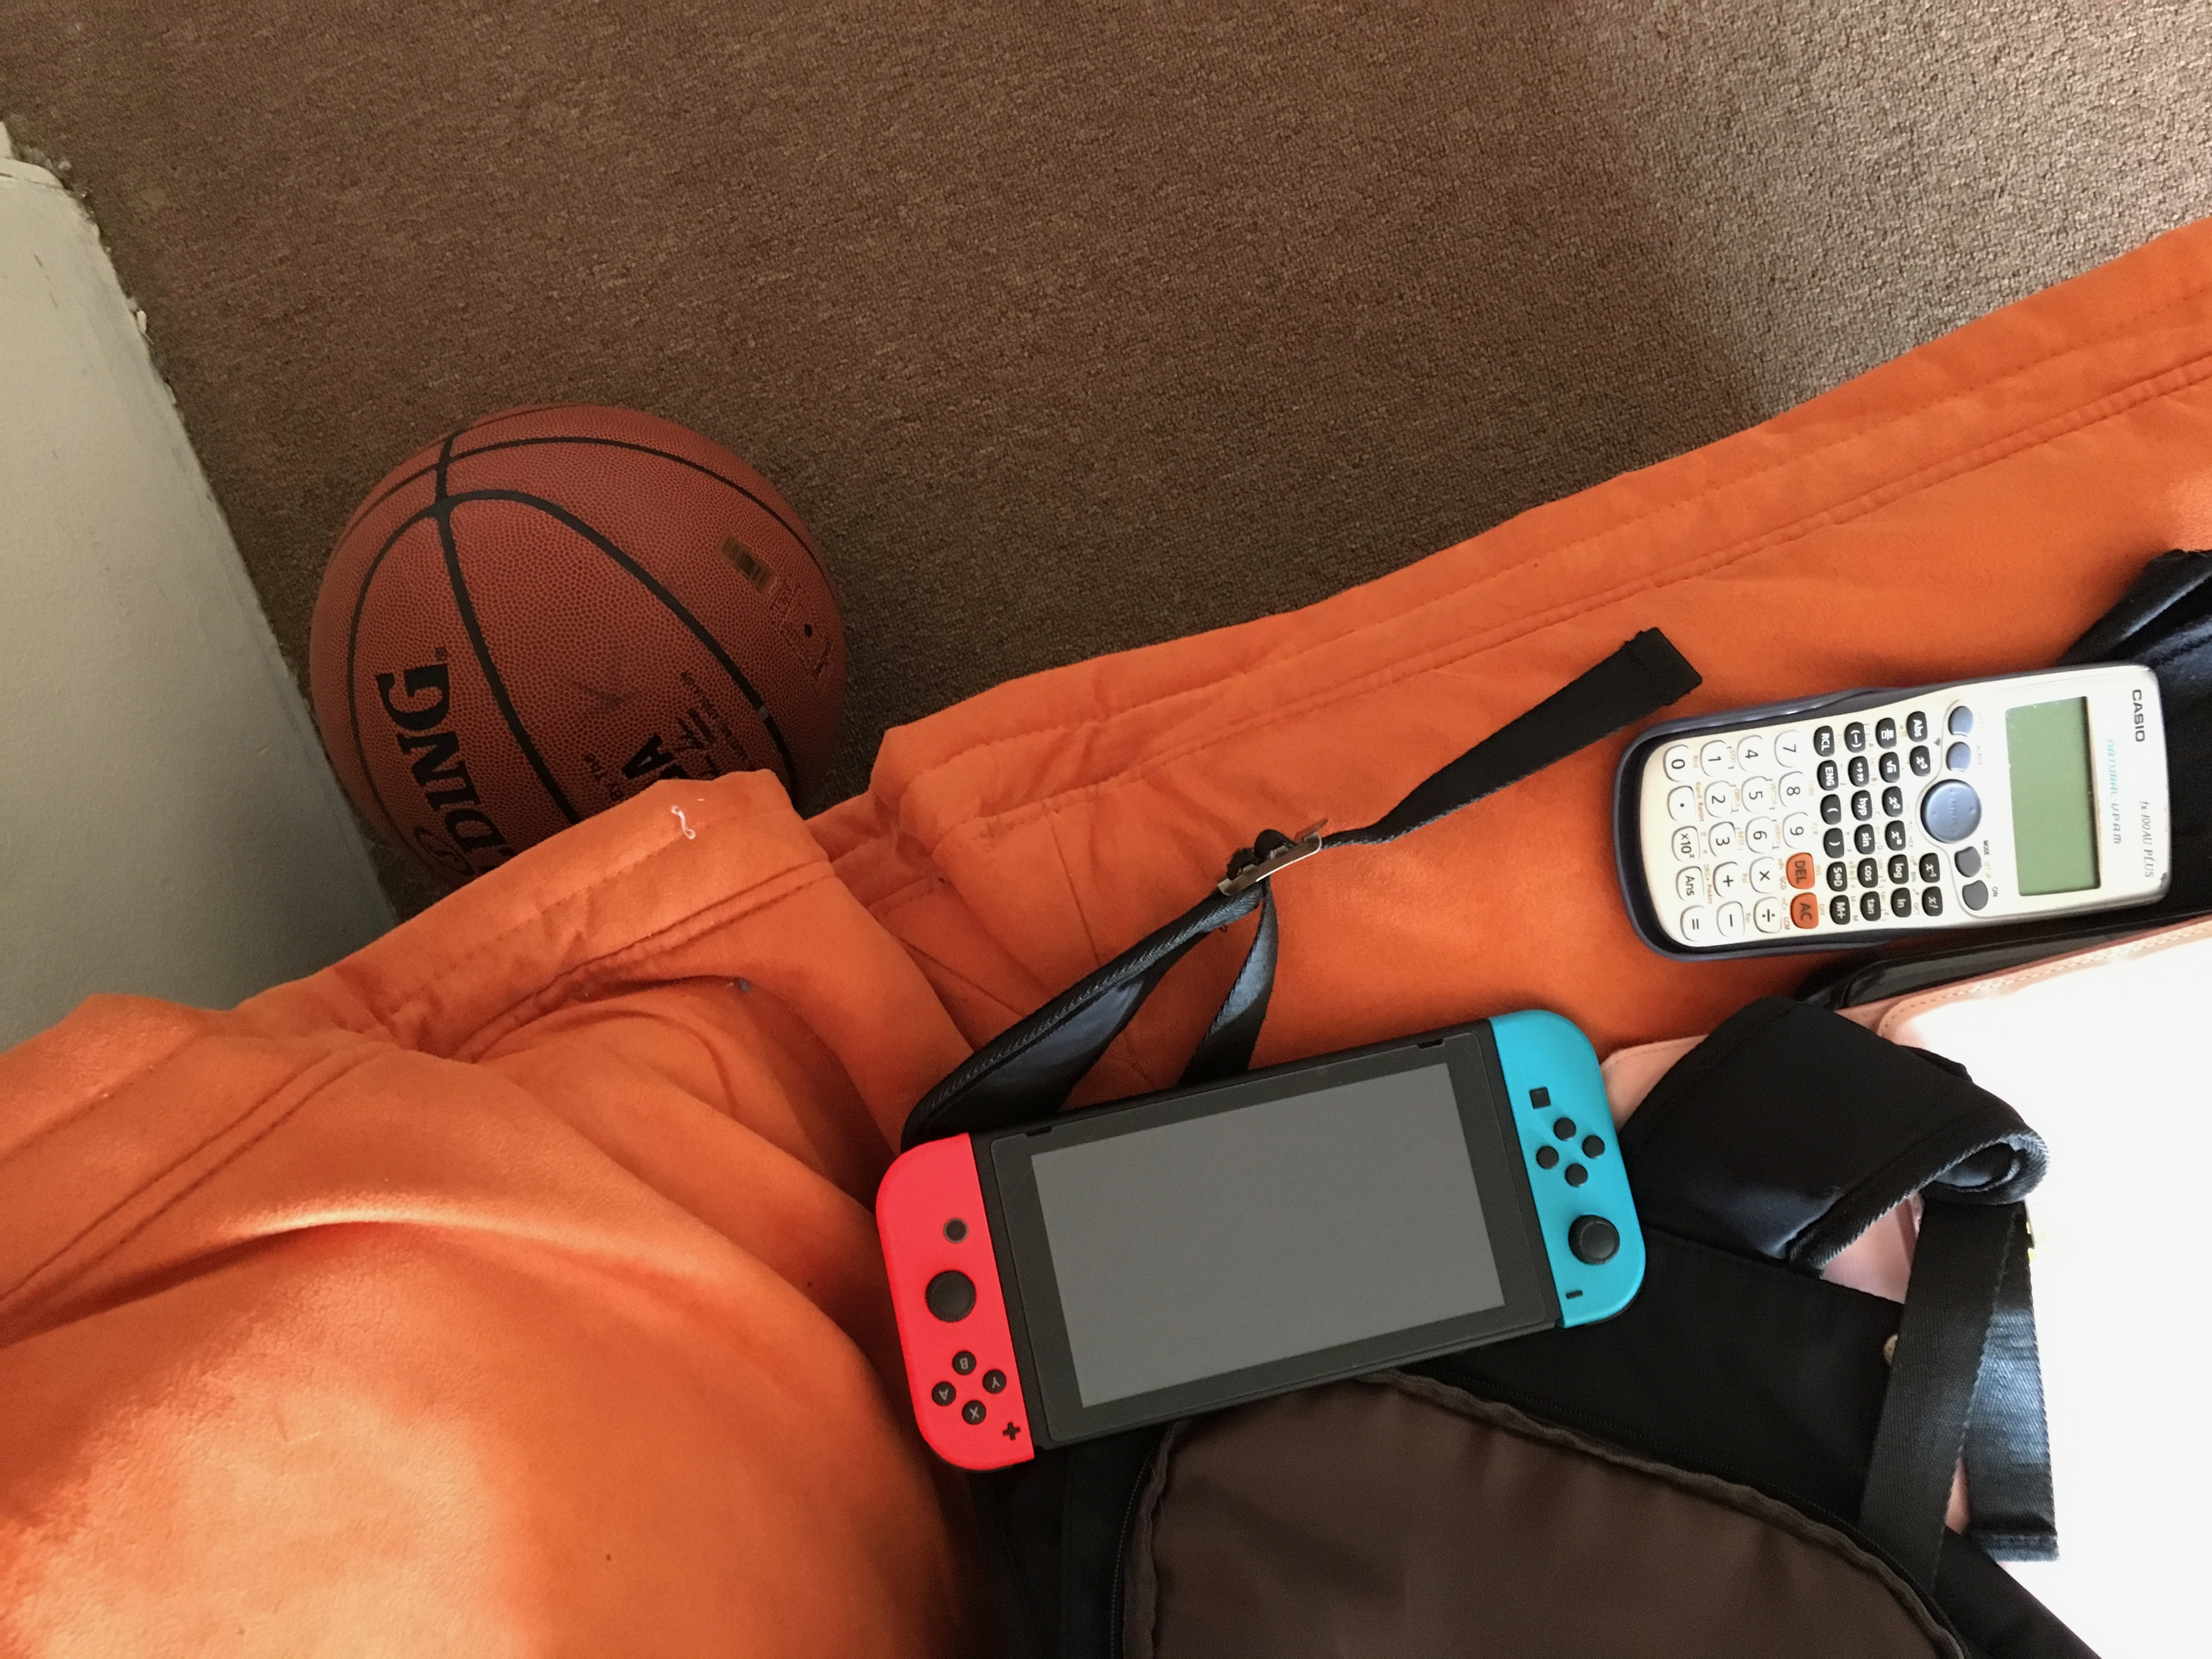Basketball: (296, 382, 866, 890)
Calculator: (1597, 634, 2202, 967)
NintendoSwitch: (866, 1000, 1662, 1486)
